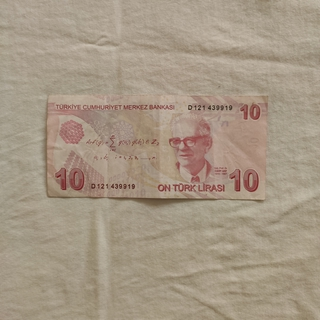10TLBack: (45, 92, 269, 201)
